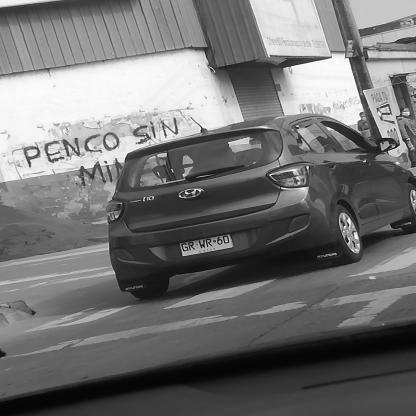Patente: (175, 231, 237, 259)
